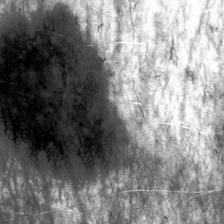Benign Marking or Mole: (0, 6, 117, 173)
